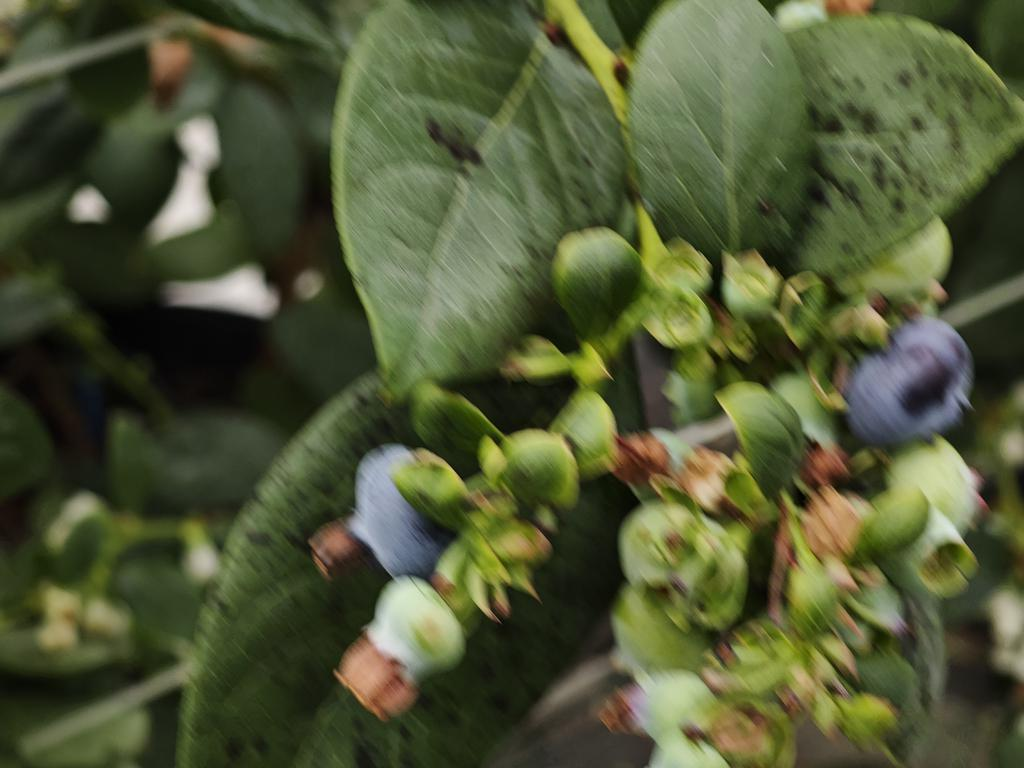RipeBlueBerry: (848, 307, 978, 445), (351, 440, 457, 579)
